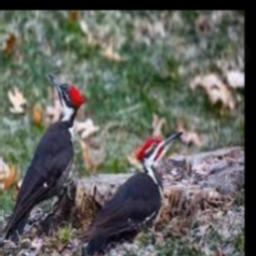Woodpecker: (0, 74, 85, 245), (75, 130, 182, 248)
